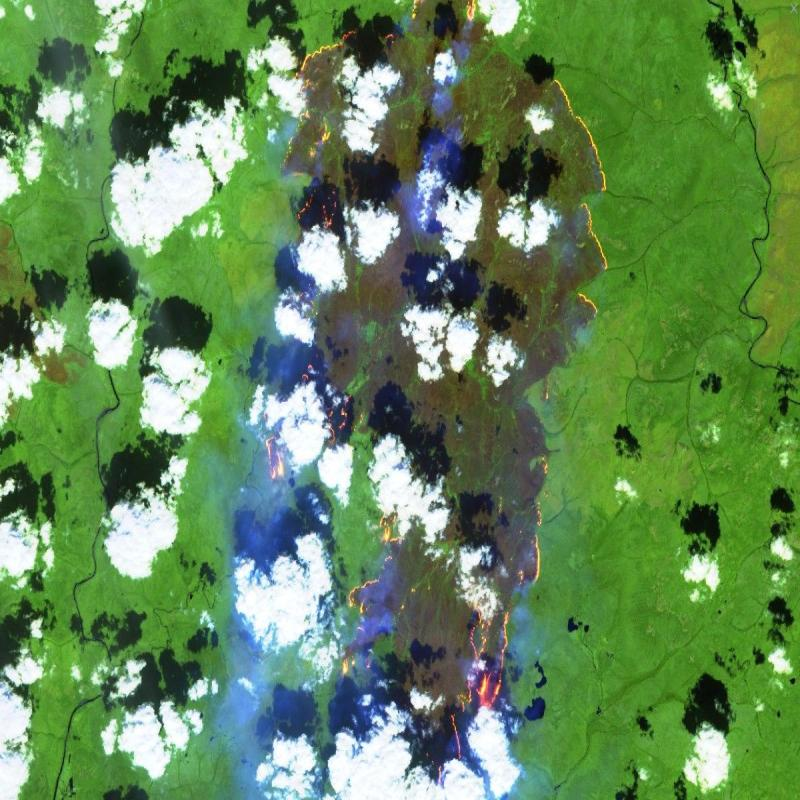fire: (245, 0, 620, 800)
